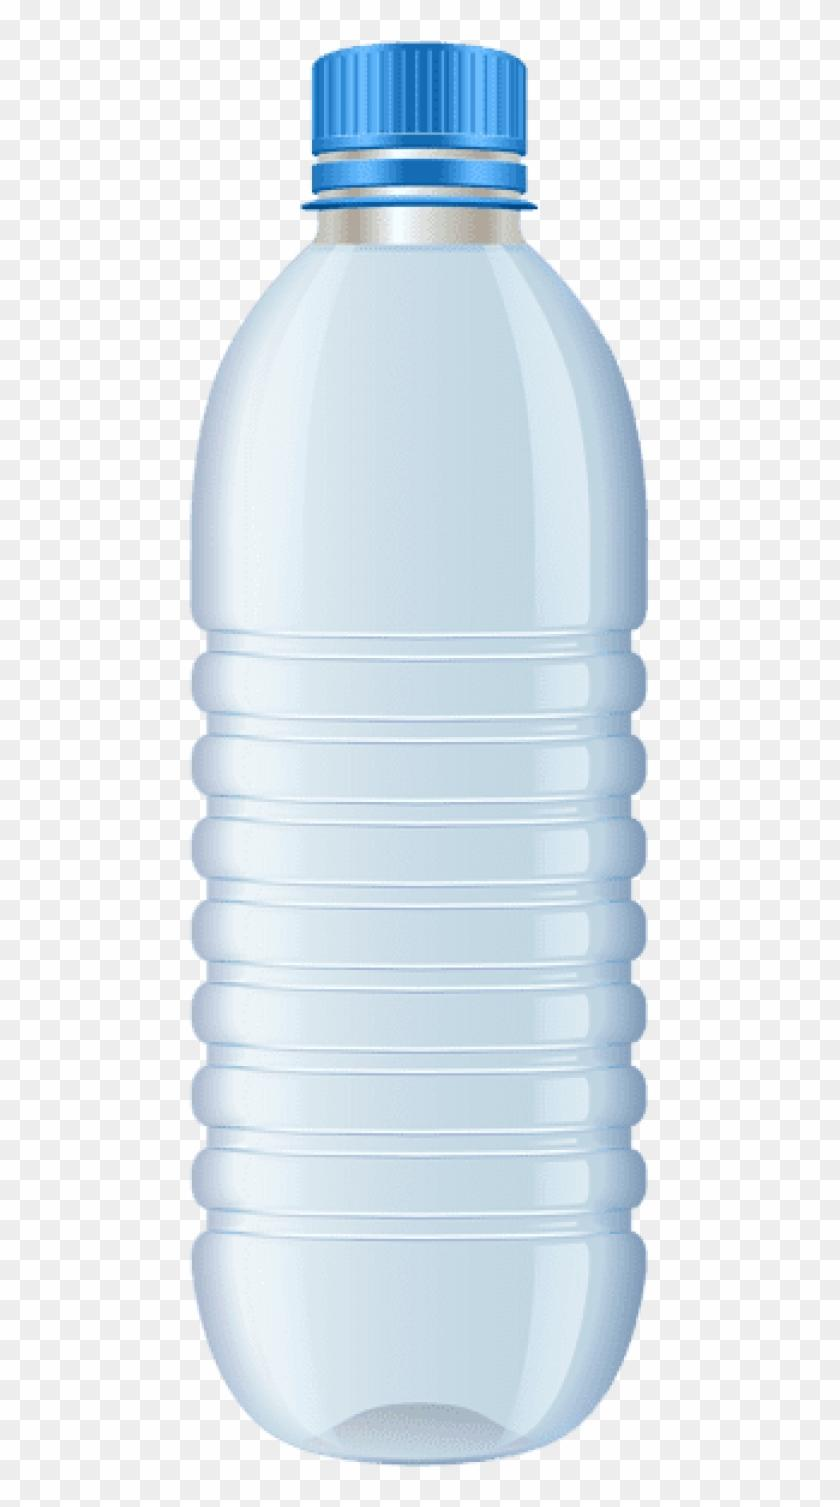bottle: (0, 0, 328, 843)
